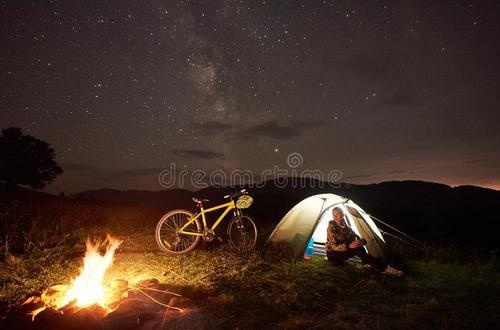fire: (27, 231, 124, 320)
